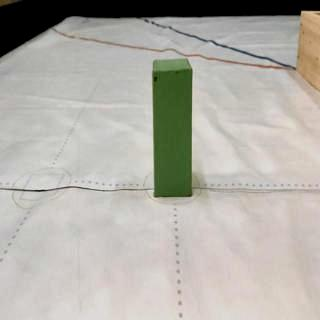greenbox: (151, 60, 193, 196)
